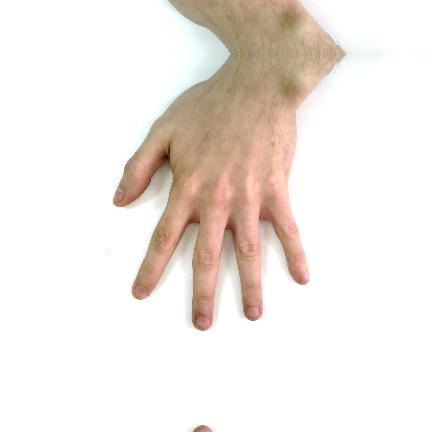Nail: (132, 285, 149, 300), (194, 316, 211, 331), (113, 187, 125, 202), (246, 308, 260, 320), (195, 425, 211, 432), (300, 272, 310, 282)
